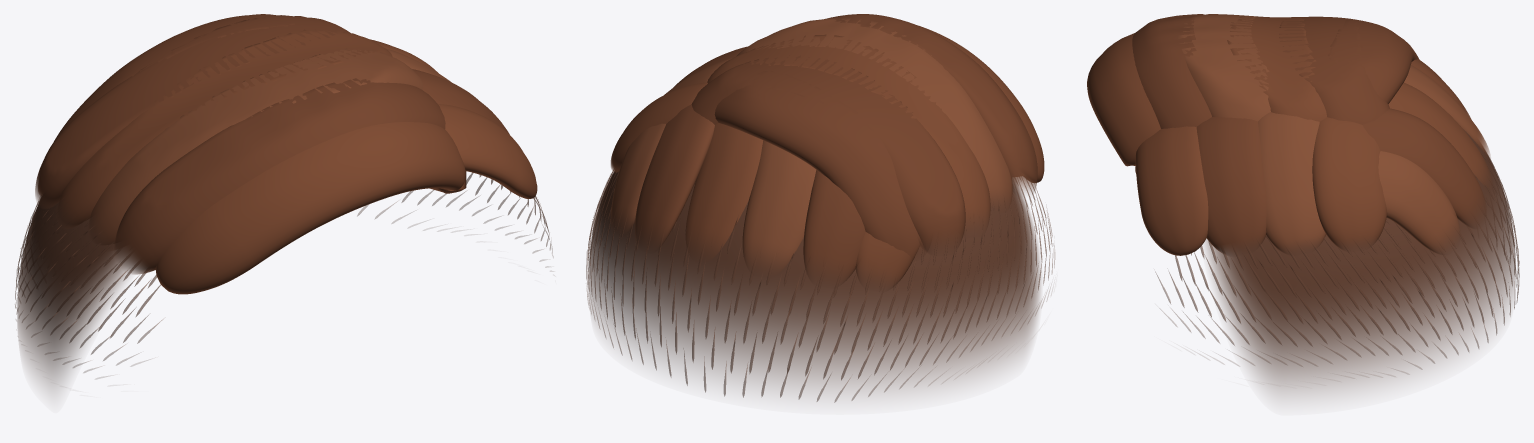
Rendered from Masculine-Masculine-taper-pashmina259-hair-61c83994.glb.
3 views of the same model, side by side, from view 1: azimuth 30°, elevation 25°; view 2: azimuth 150°, elevation 25°; view 3: azimuth 270°, elevation 25° (orthographic). The views are drawn at different scales.
Parts seen in each view (by area): view 1: 226 hair / Hair258 / sculpted side sweep 1, 226 hair / Hair258 / sculpted side sweep 0, 226 hair / Hair258 / smooth side fade, 226 hair / Hair258 / sculpted side sweep 2, 226 hair / Hair259 / directional fade marks214; view 2: 226 hair / Hair258 / smooth side fade, 226 hair / Hair258 / sculpted side sweep 0, 226 hair / Hair258 / sculpted side sweep 1, 226 hair / Hair258 / sculpted side sweep 2, 226 hair / Hair259 / directional fade marks214; view 3: 226 hair / Hair258 / smooth side fade, 226 hair / Hair258 / sculpted side sweep 0, 226 hair / Hair258 / sculpted side sweep 1, 226 hair / Hair258 / sculpted side sweep 2, 226 hair / Hair259 / directional fade marks214.
Part boxes in pixels (<box>): 226 hair / Hair258 / sculpted side sweep 1: <box>38,29,537,294</box>; 226 hair / Hair258 / sculpted side sweep 0: <box>35,14,509,274</box>; 226 hair / Hair258 / smooth side fade: <box>17,196,130,391</box>; 226 hair / Hair258 / sculpted side sweep 2: <box>88,48,451,245</box>; 226 hair / Hair259 / directional fade marks214: <box>15,172,553,378</box>; 226 hair / Hair258 / smooth side fade: <box>588,171,1040,393</box>; 226 hair / Hair258 / sculpted side sweep 0: <box>635,14,1037,284</box>; 226 hair / Hair258 / sculpted side sweep 1: <box>610,25,1044,289</box>; 226 hair / Hair258 / sculpted side sweep 2: <box>610,18,1012,274</box>; 226 hair / Hair259 / directional fade marks214: <box>586,170,1054,402</box>; 226 hair / Hair258 / smooth side fade: <box>1205,129,1515,396</box>; 226 hair / Hair258 / sculpted side sweep 0: <box>1132,14,1486,255</box>; 226 hair / Hair258 / sculpted side sweep 1: <box>1087,16,1491,255</box>; 226 hair / Hair258 / sculpted side sweep 2: <box>1177,14,1490,254</box>; 226 hair / Hair259 / directional fade marks214: <box>1155,145,1519,376</box>.
Size of the model in its own units: 0.7778 by 0.5151 by 0.6926.
